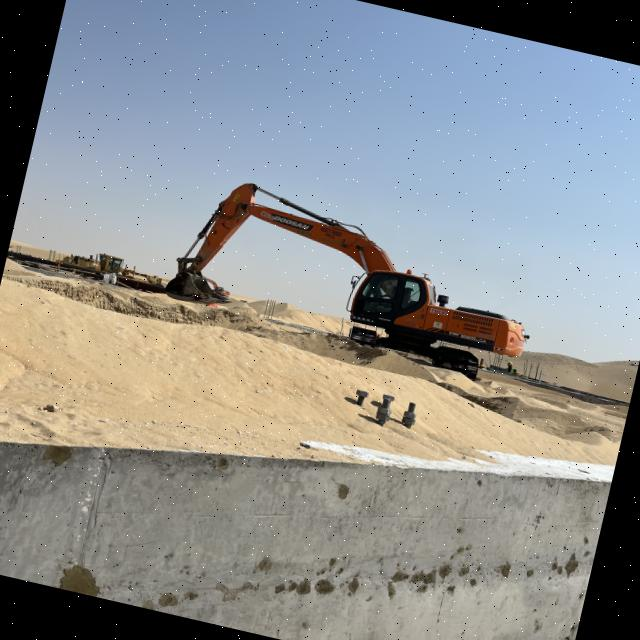Excavator: (159, 166, 549, 392)
